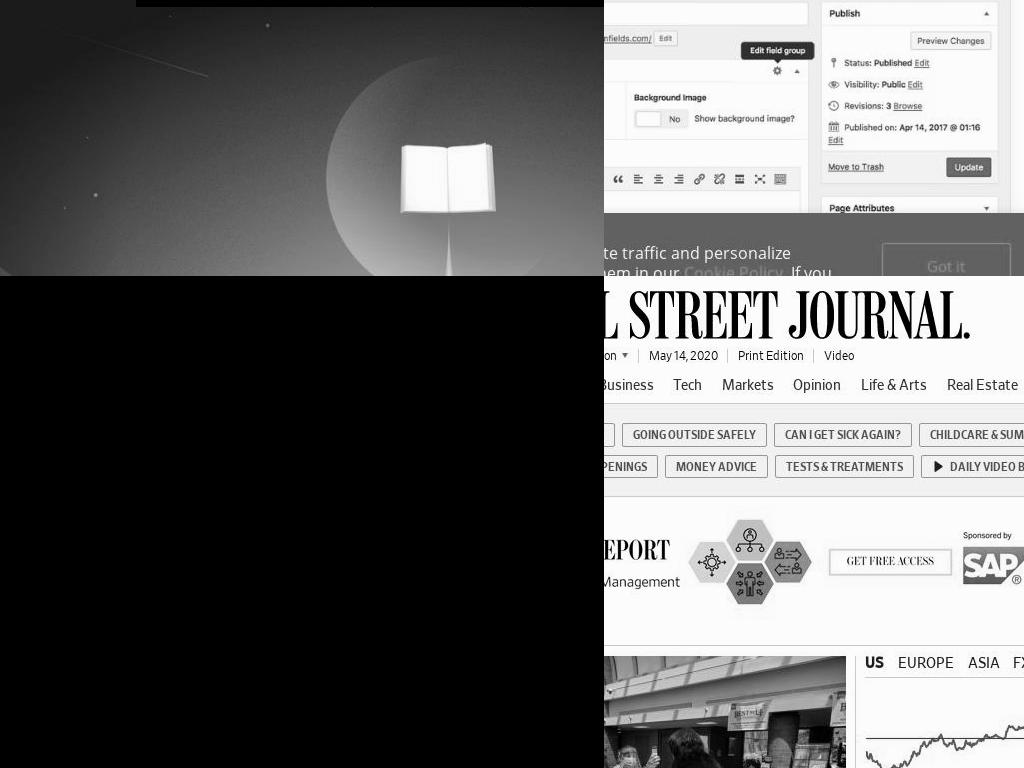button: (604, 656, 846, 768), (604, 276, 980, 339), (125, 537, 346, 587), (362, 537, 582, 587), (882, 243, 1011, 276), (622, 423, 767, 447), (774, 423, 912, 447), (775, 455, 914, 478), (919, 423, 1024, 447), (665, 455, 768, 478), (921, 455, 1024, 478), (937, 371, 1024, 398), (852, 371, 936, 398), (713, 371, 783, 398), (784, 371, 851, 398), (604, 371, 663, 398), (664, 371, 712, 398), (604, 455, 658, 478), (604, 345, 629, 367)
heading: (0, 363, 604, 453)
iframe: (604, 517, 1024, 607)
image: (0, 276, 604, 768), (604, 0, 1011, 276), (604, 656, 846, 768), (865, 678, 1024, 768), (433, 473, 454, 493), (453, 472, 474, 492), (473, 473, 494, 493), (933, 461, 944, 472)
link: (684, 262, 784, 276), (737, 355, 804, 369), (823, 355, 854, 369)
text: (115, 708, 604, 735), (142, 630, 604, 657), (604, 607, 1024, 625), (604, 242, 792, 276), (180, 545, 291, 578), (310, 473, 422, 493), (497, 473, 604, 493), (648, 349, 718, 363), (897, 656, 954, 672), (950, 462, 1024, 473), (967, 656, 1000, 672), (865, 656, 884, 672), (1013, 656, 1024, 672)
